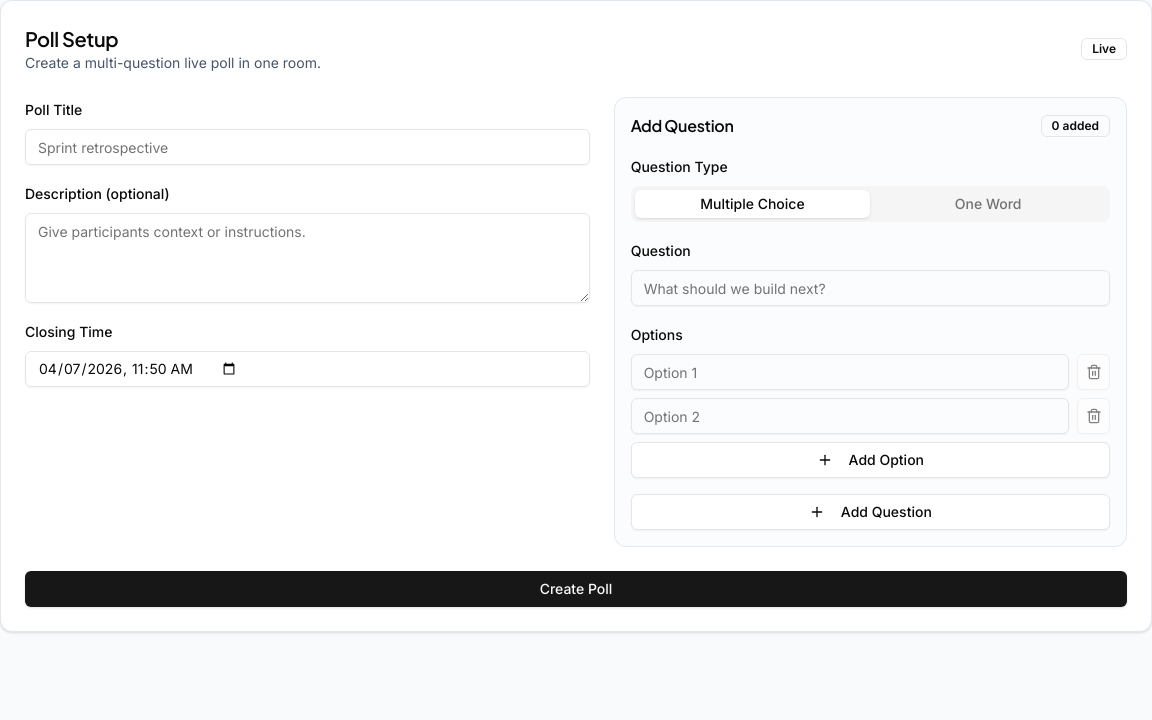
Test: PollCreateForm › requires a title and at least one question before submit
What coordinates should you click on to do the following:
click the button "Create Poll"
I would click on:
 (576, 589)
Its box is [25,571,1127,607].
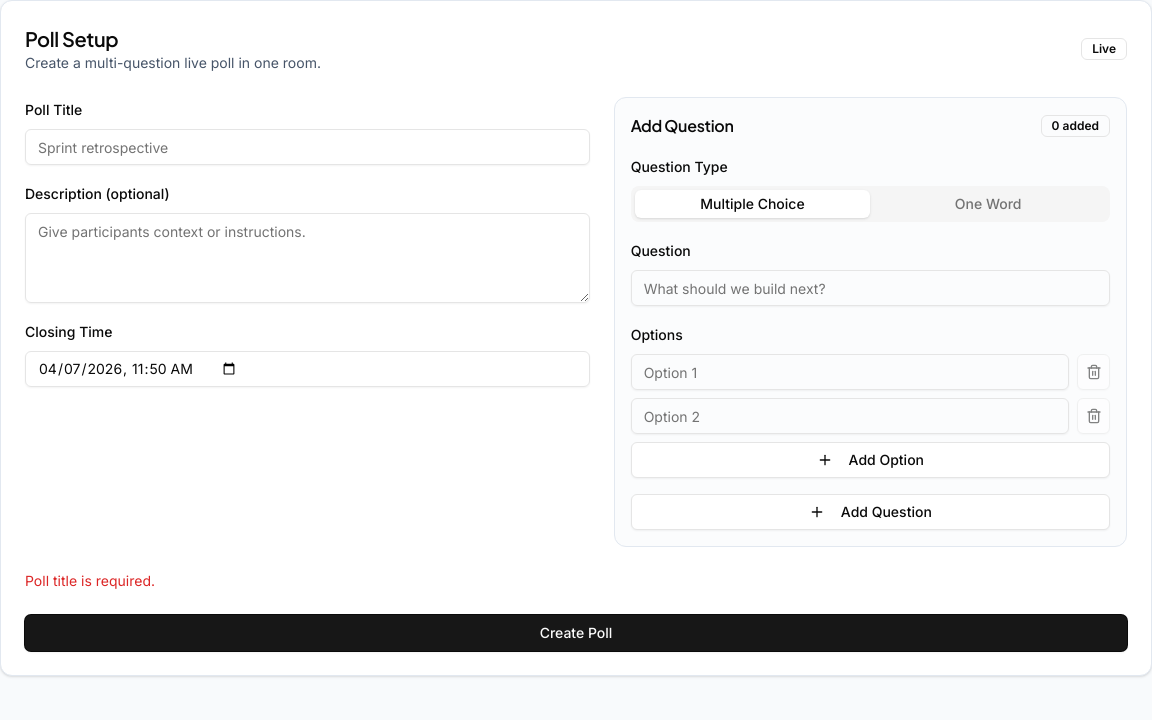
Check: the text "Poll title is required." is shown, box [25,572,155,589]
